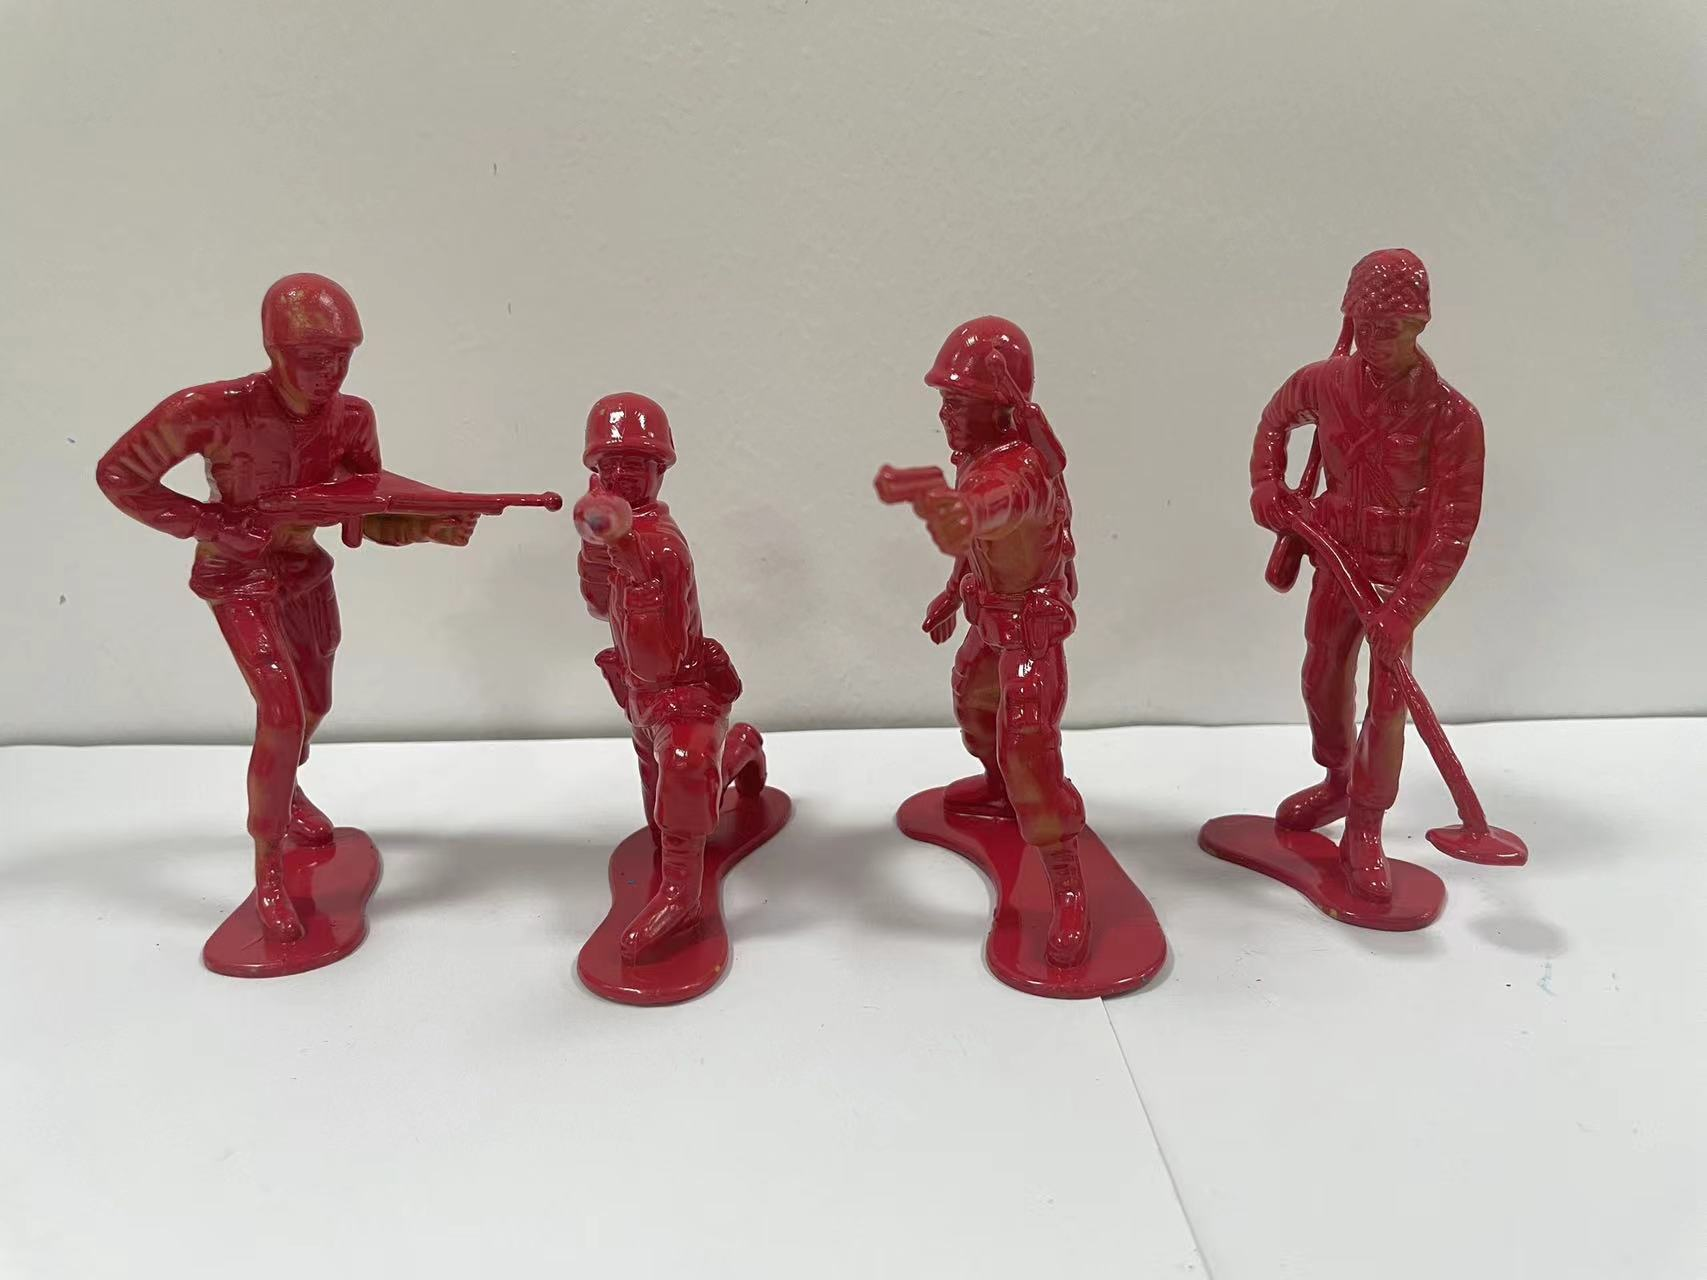red: (77, 254, 536, 1008), (1202, 206, 1583, 1012), (841, 274, 1200, 1053), (544, 355, 829, 1035)
